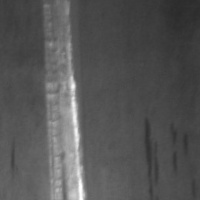inclusion: (140, 115, 162, 185), (168, 119, 191, 173), (6, 140, 22, 177)
scratches: (35, 0, 83, 196)
